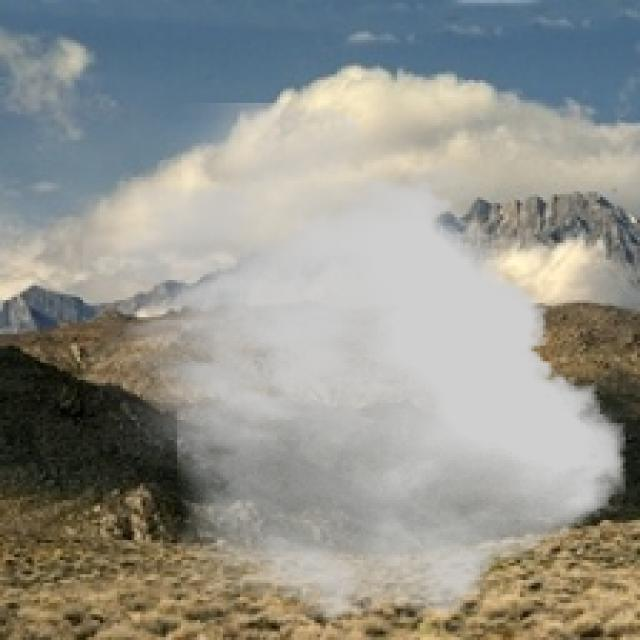smoke: (83, 103, 626, 623)
